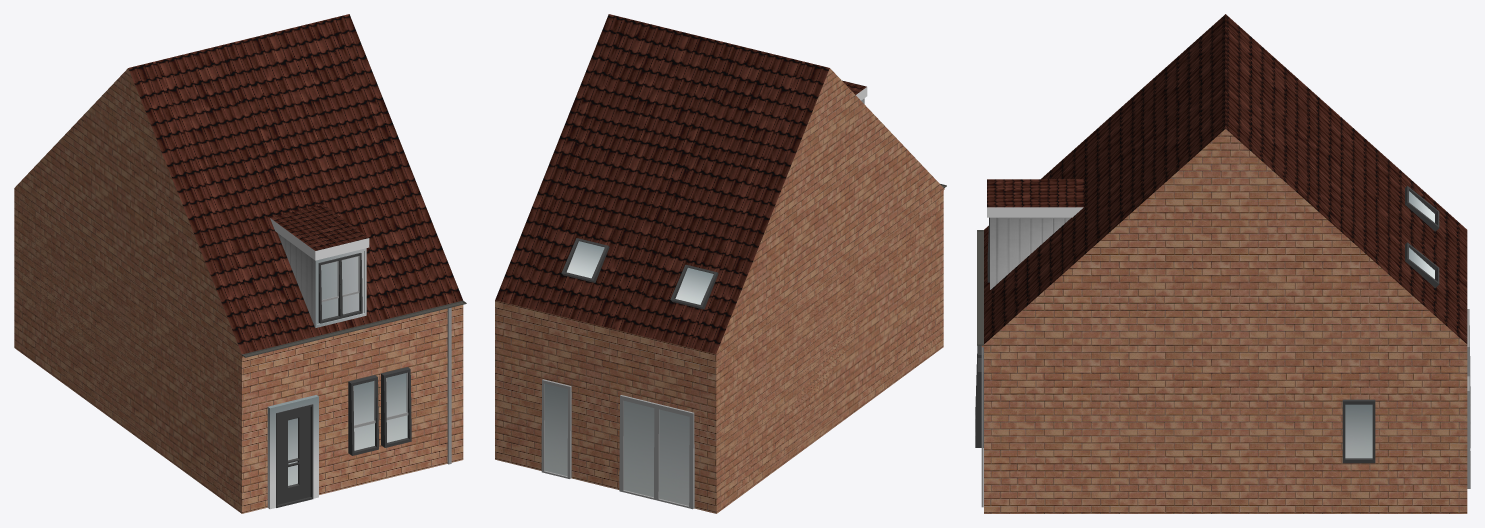
The model's file is Woning_39723_D1.fbx.
3 renders of one model, left to right at view 1: azimuth 30°, elevation 25°; view 2: azimuth 150°, elevation 25°; view 3: azimuth 270°, elevation 25°, orthographic. The views are drawn at different scales.
Parts seen in each view (by area): view 1: Woning_39723_D1; view 2: Woning_39723_D1; view 3: Woning_39723_D1.
Part boxes in pixels (x1,y1,x2,y2): Woning_39723_D1: (14,14,466,513); Woning_39723_D1: (495,14,946,513); Woning_39723_D1: (975,14,1470,513).
Size of the model in its own units: 578 by 885 by 1030.
